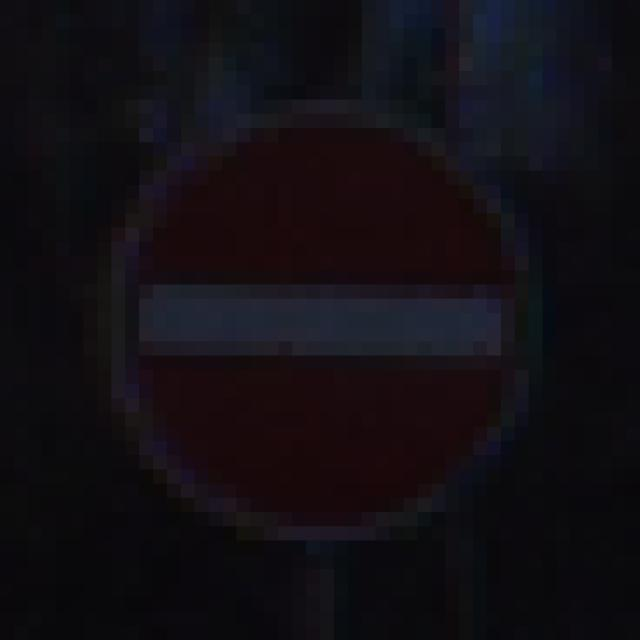No Entry: (85, 72, 572, 570)
